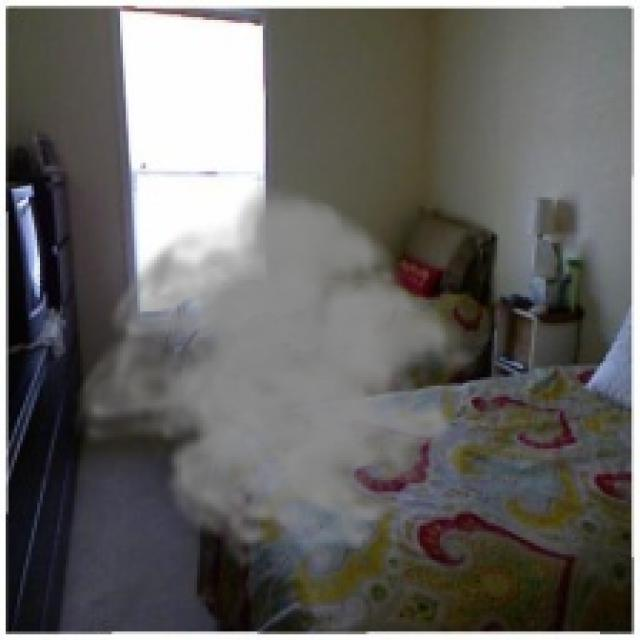smoke: (69, 183, 492, 571)
